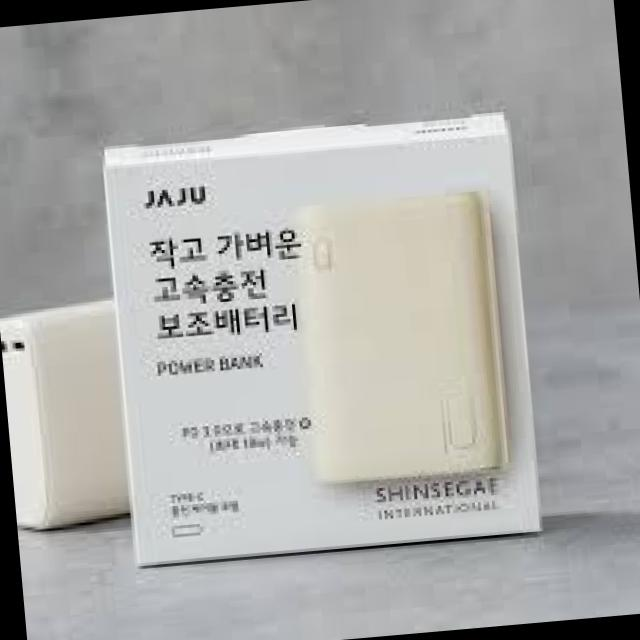portable-charger: (299, 187, 509, 482), (0, 307, 137, 531)
